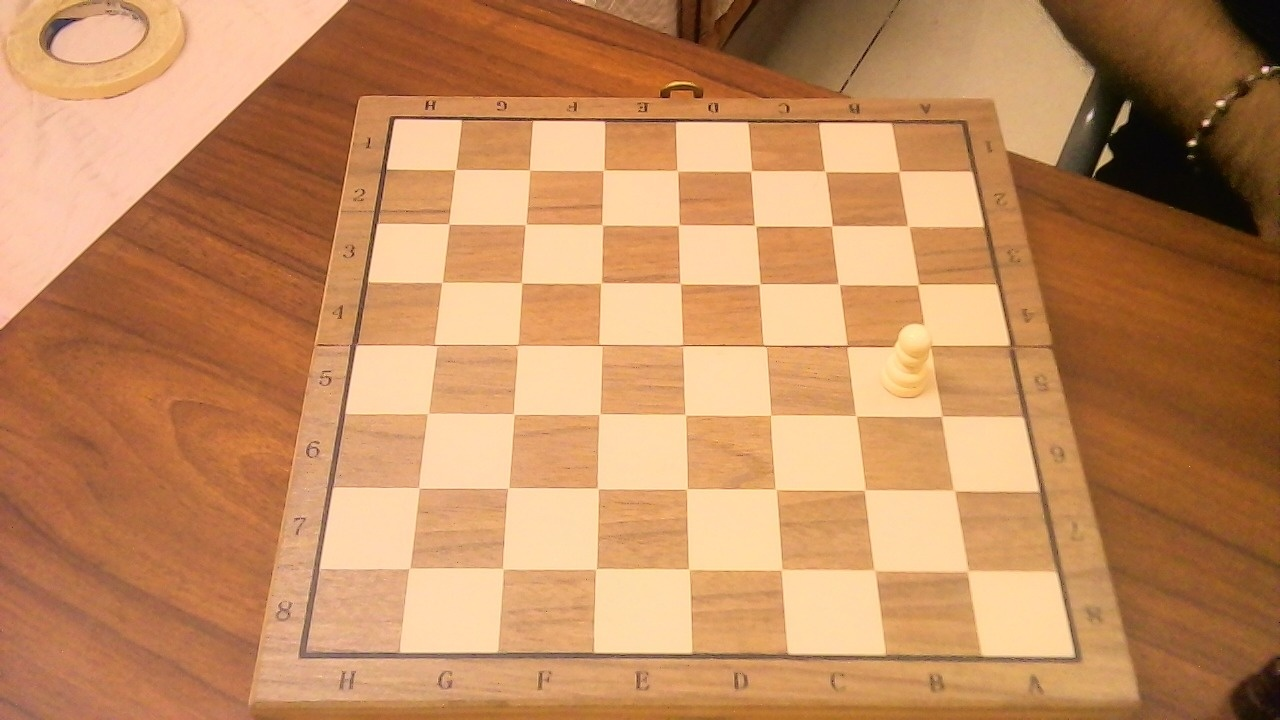P: (873, 314, 940, 402)
